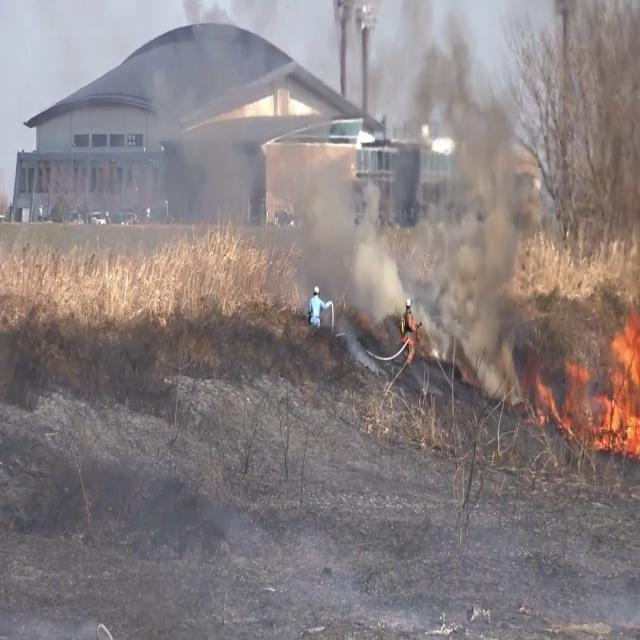Fire: (591, 304, 640, 458)
Smoke: (141, 0, 556, 333)
